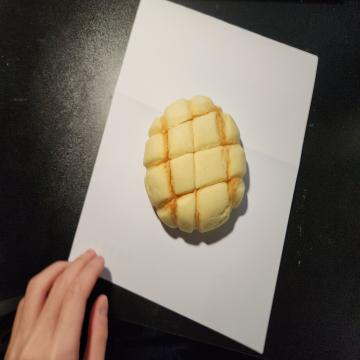melon_bread: (144, 95, 248, 237)
